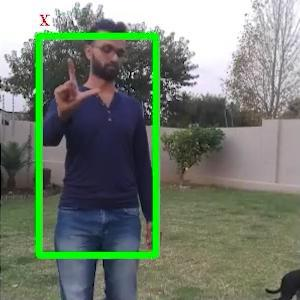land_hand: (43, 49, 104, 112)
